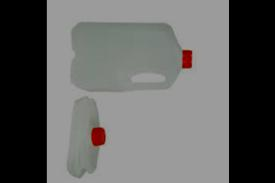Plastic: (67, 17, 195, 94), (63, 96, 107, 180)
